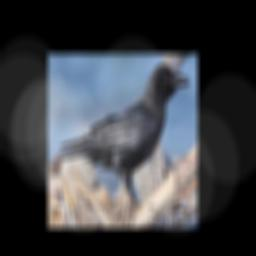Crow: (56, 63, 190, 208)
